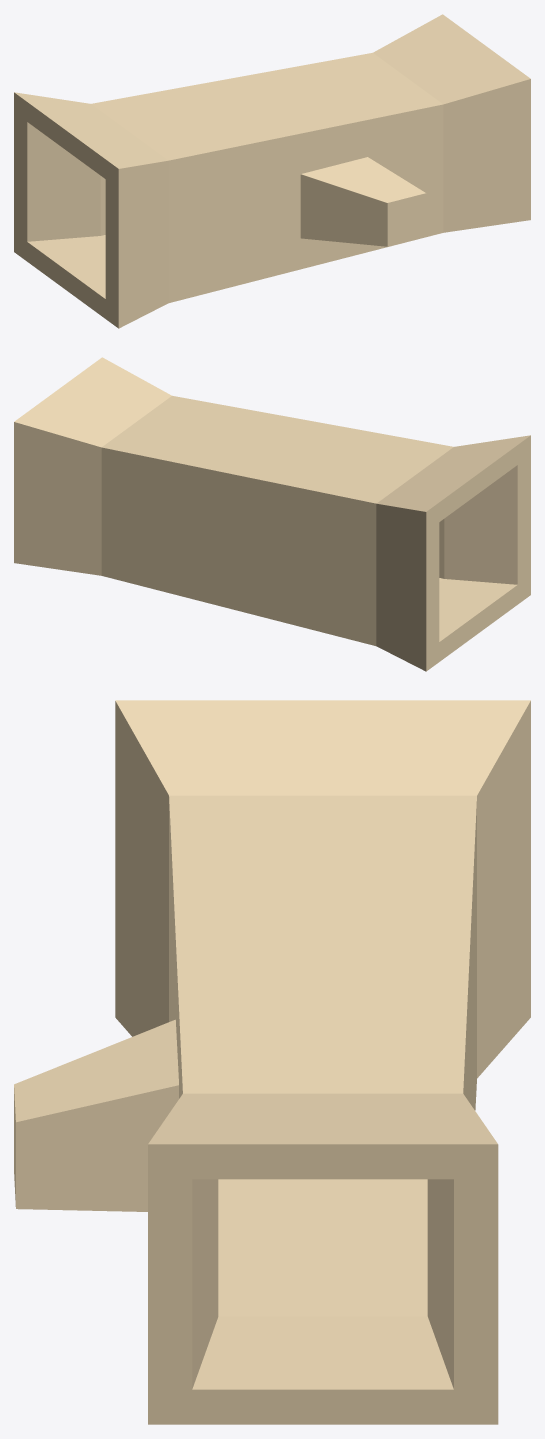
File: naturePack_138.fbx
3 renders of one model, top to bottom at view 1: azimuth 30°, elevation 25°; view 2: azimuth 150°, elevation 25°; view 3: azimuth 270°, elevation 25°, orthographic. The views are drawn at different scales.
Visible parts, largest first — view 1: naturePack_138; view 2: naturePack_138; view 3: naturePack_138.
Part boxes in pixels (x1,y1,x2,y2): naturePack_138: (14, 14, 530, 328); naturePack_138: (14, 357, 530, 671); naturePack_138: (14, 700, 530, 1424).
Size of the model in its own units: 219 by 79.52 by 118.
